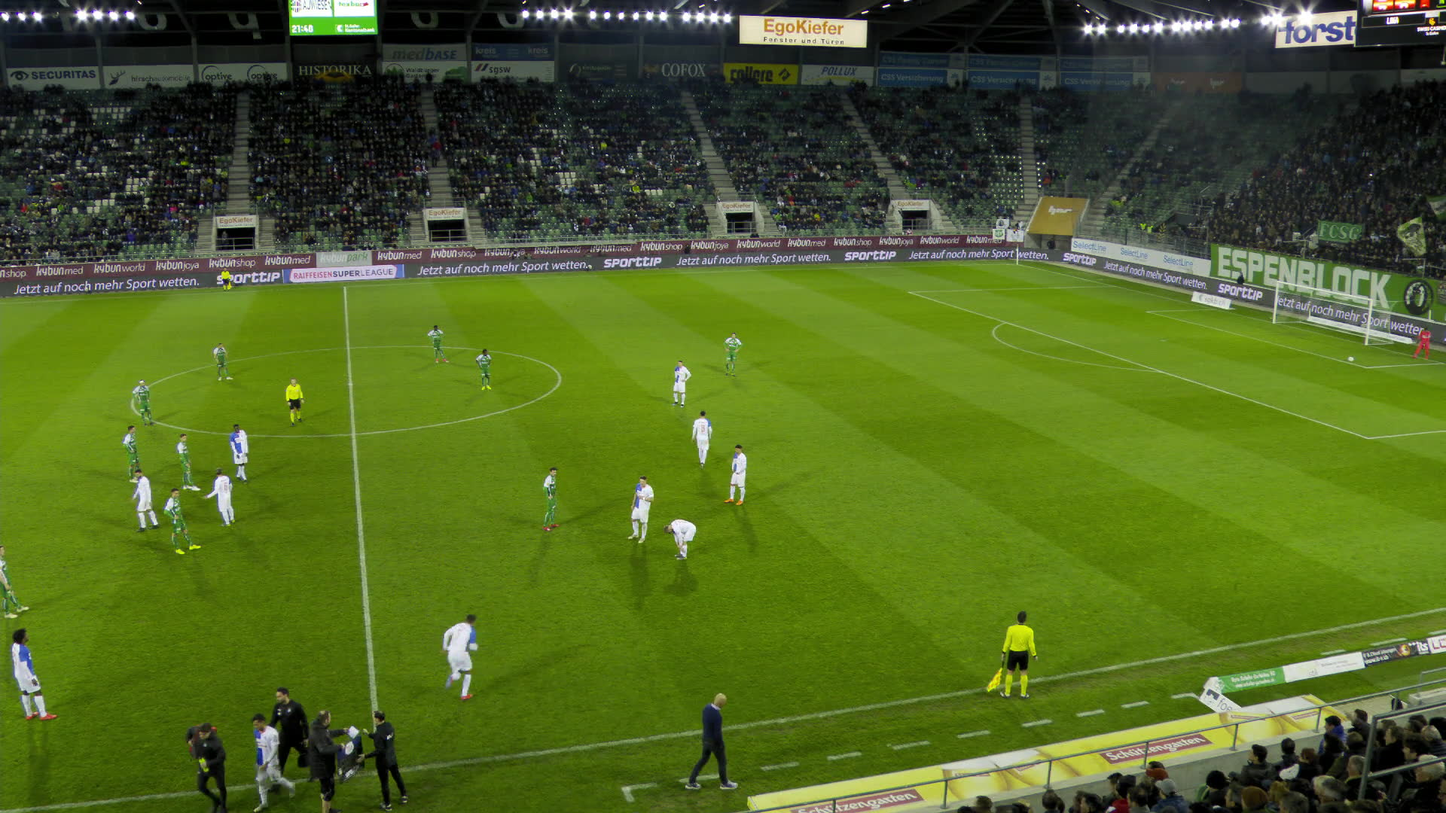ball: (257, 683, 310, 789), (213, 700, 261, 796), (1347, 356, 1353, 360)
player: (250, 712, 293, 809), (12, 627, 57, 719), (435, 614, 473, 711), (163, 488, 200, 553), (128, 468, 161, 533), (0, 545, 29, 617), (203, 466, 236, 527), (224, 421, 255, 484), (627, 476, 655, 542), (664, 507, 696, 563), (538, 465, 564, 530), (724, 443, 749, 507), (122, 425, 143, 487), (176, 433, 199, 489), (691, 410, 712, 468), (130, 379, 153, 425), (670, 357, 691, 406), (427, 324, 450, 363), (473, 348, 494, 390), (212, 341, 233, 382), (722, 332, 741, 376), (1412, 328, 1429, 358)
referee: (988, 607, 1038, 698), (284, 375, 304, 427), (219, 266, 231, 291)
